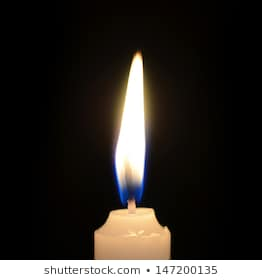Fire: (108, 45, 155, 202)
